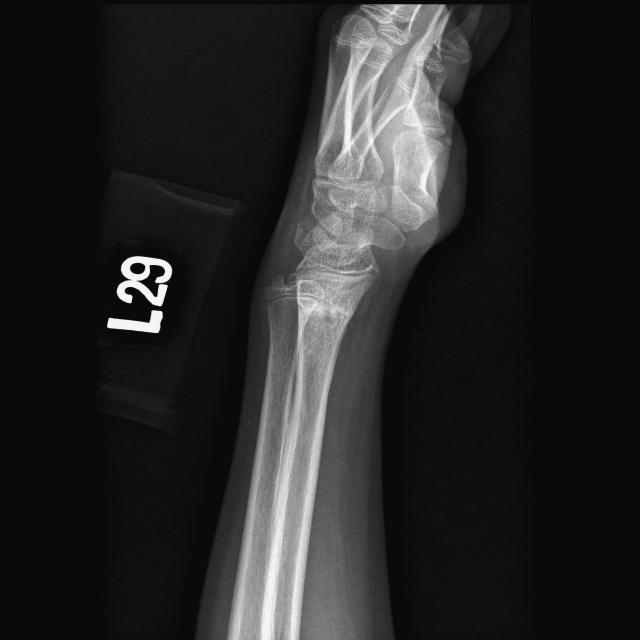fracture: (253, 250, 336, 326)
